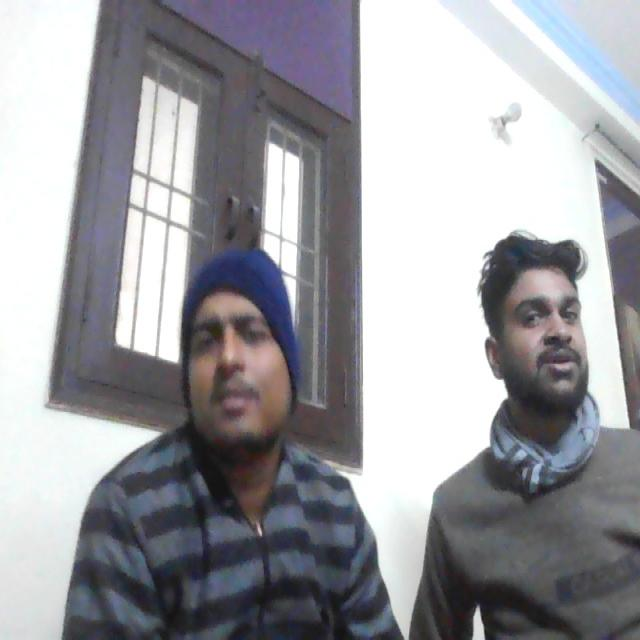real: (183, 235, 300, 456), (493, 211, 598, 409)
